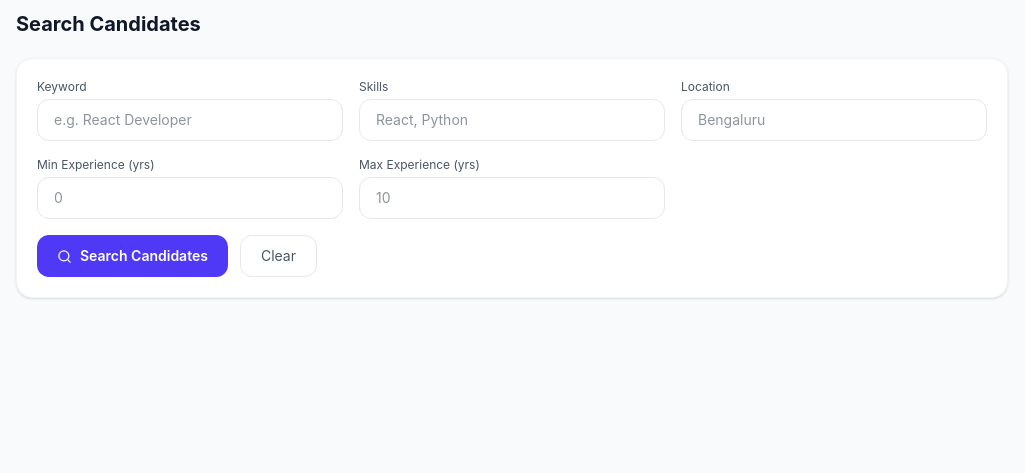
Scenario: CandidateSearch › shows no candidates found message when API returns empty
Click the button "Search Candidates" at (132, 256), box left=37, top=235, right=228, bottom=277
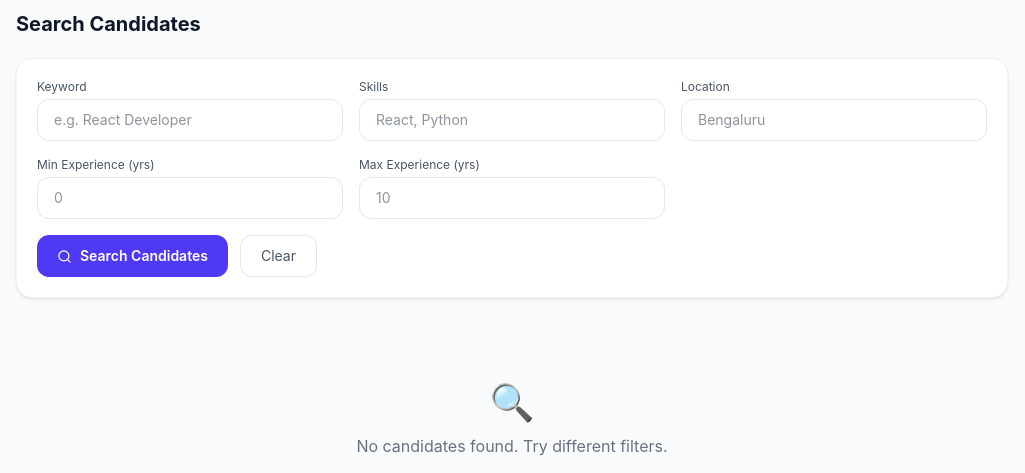
Now the text "No candidates found. Try different filters." is shown, box left=356, top=436, right=668, bottom=456
